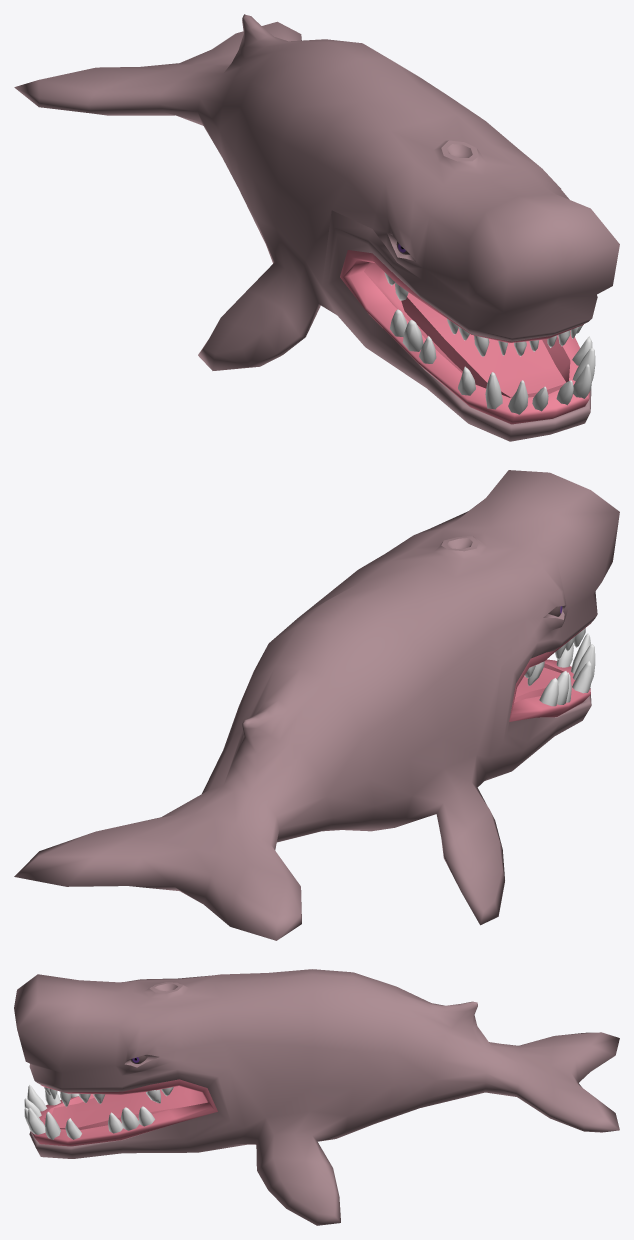
File: Moby Dick.fbx
The picture shows the model from 3 angles, top to bottom: view 1: azimuth 30°, elevation 25°; view 2: azimuth 150°, elevation 25°; view 3: azimuth 270°, elevation 25°; orthographic projection. The views are drawn at different scales.
Visible parts, largest first — view 1: Moby Body Mesh, Moby Teeth Mesh; view 2: Moby Body Mesh, Moby Teeth Mesh; view 3: Moby Body Mesh, Moby Teeth Mesh.
Part boxes in pixels (box(x1,y1,x2,y2)): Moby Body Mesh: box(14, 14, 619, 441); Moby Teeth Mesh: box(384, 272, 595, 414); Moby Body Mesh: box(14, 470, 619, 940); Moby Teeth Mesh: box(524, 628, 595, 706); Moby Body Mesh: box(14, 969, 619, 1225); Moby Teeth Mesh: box(24, 1085, 173, 1139).
Bounding box in the file's own units: 610 × 570 × 1556.
